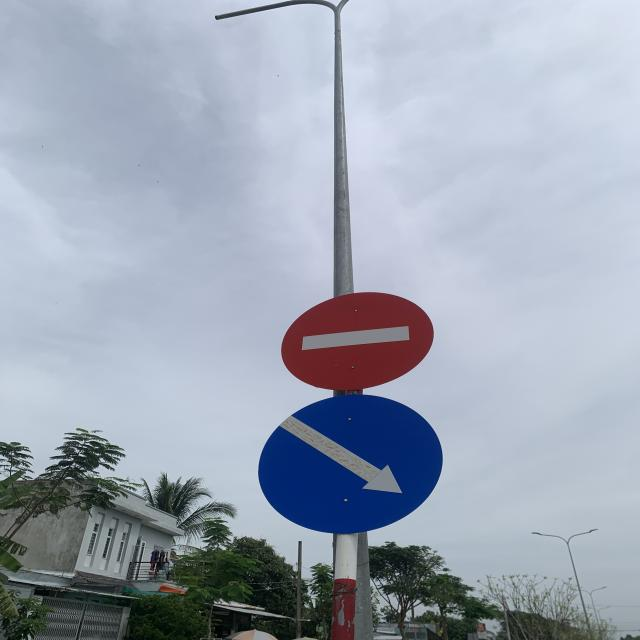Cam_Di_Nguoc_Chieu: (282, 290, 436, 392)
Chi_Huong_Di_Phai: (259, 395, 446, 535)
